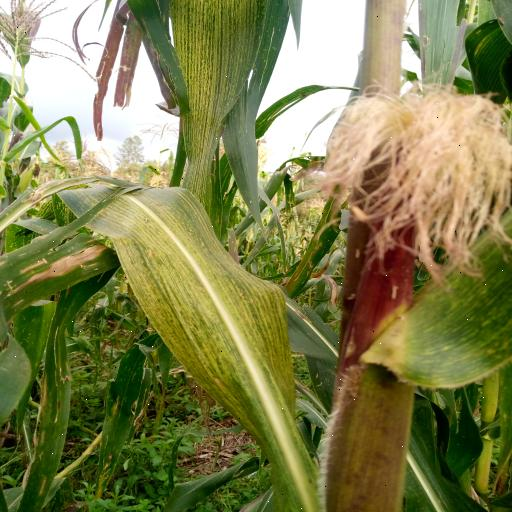Corn_Streak: (63, 178, 319, 512)
